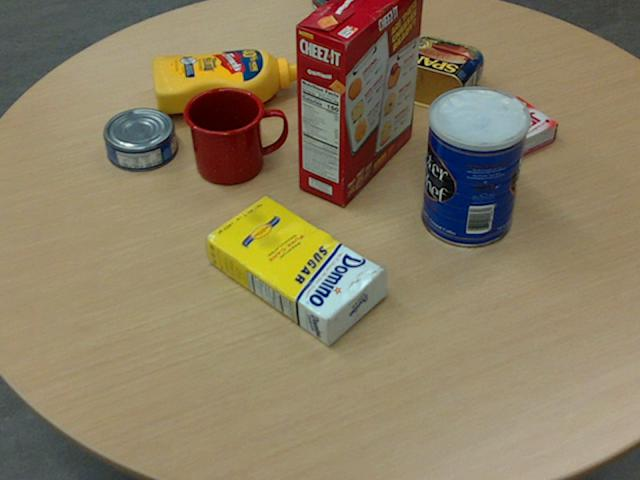cracker_box: (294, 0, 423, 205)
gelatin_box: (463, 94, 557, 162)
large_marker: (326, 21, 342, 110)
master_chef_can: (421, 86, 529, 248)
mug: (182, 86, 285, 184)
mustard_bottle: (151, 48, 303, 113)
potted_meat_can: (388, 36, 483, 113)
sugar_box: (201, 195, 386, 346)
tomato_soup_can: (312, 0, 362, 72)
tuna_fish_can: (102, 107, 176, 170)
